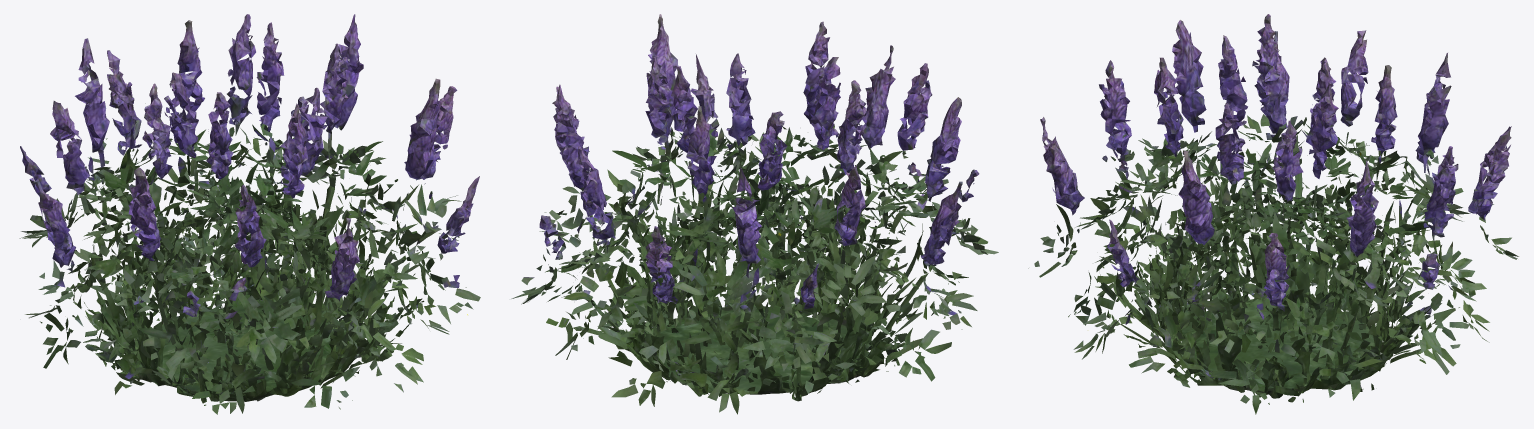
File: meadows_flowers_lupin.glb
3 views of the same model, side by side, from view 1: azimuth 30°, elevation 25°; view 2: azimuth 150°, elevation 25°; view 3: azimuth 270°, elevation 25° (orthographic). The views are drawn at different scales.
Parts seen in each view (by area): view 1: Mesh_0; view 2: Mesh_0; view 3: Mesh_0.
Part boxes in pixels (x1,y1,x2,y2): Mesh_0: (19,14,480,414); Mesh_0: (511,14,998,414); Mesh_0: (1028,14,1518,414).
Bounding box in the file's own units: 1.82 × 1.19 × 1.83.
Materials: 1 (1 with a texture image).
